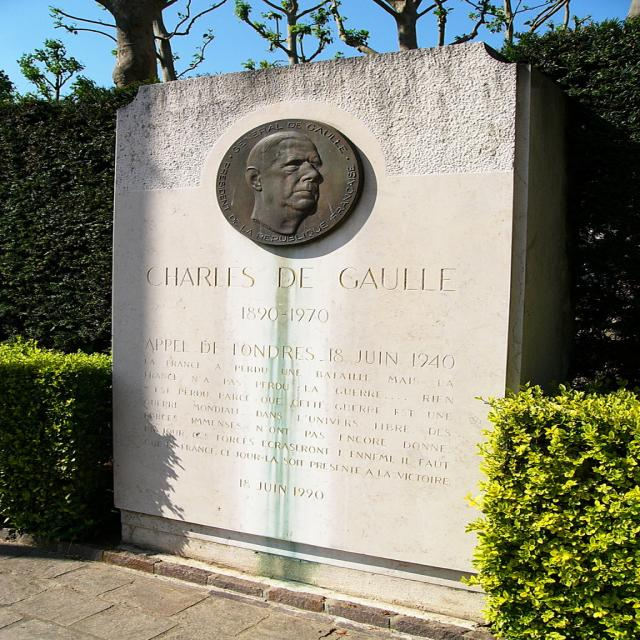Coin: (207, 116, 364, 248)
